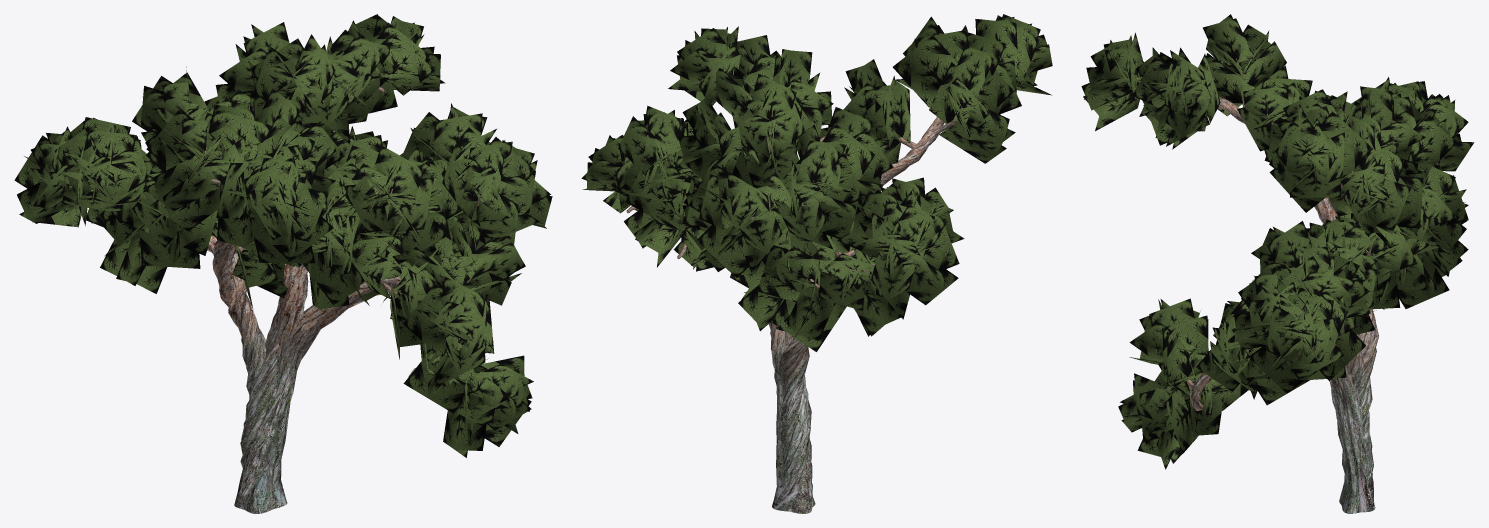
File: Tree_03_v3.obj
The picture shows the model from 3 angles, left to right: view 1: azimuth 30°, elevation 25°; view 2: azimuth 150°, elevation 25°; view 3: azimuth 270°, elevation 25°; orthographic projection. The views are drawn at different scales.
Parts seen in each view (by area): view 1: bark08, pine branch_t; view 2: bark08, pine branch_t; view 3: bark08, pine branch_t.
Part boxes in pixels (x1,y1,x2,y2): bark08: (14, 14, 552, 457); pine branch_t: (74, 87, 481, 513); bark08: (581, 14, 1052, 351); pine branch_t: (626, 107, 962, 513); bark08: (1081, 14, 1474, 469); pine branch_t: (1186, 58, 1378, 513).
Bounding box in the file's own units: 246 × 247 × 203.
Materials: 2 (2 with a texture image).
